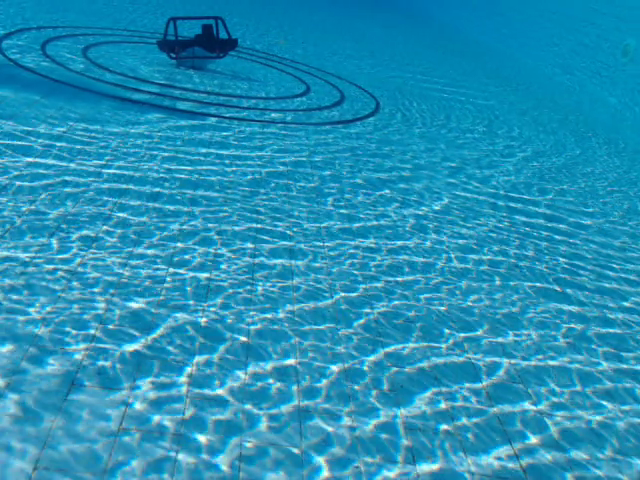submarine: (155, 15, 240, 70)
